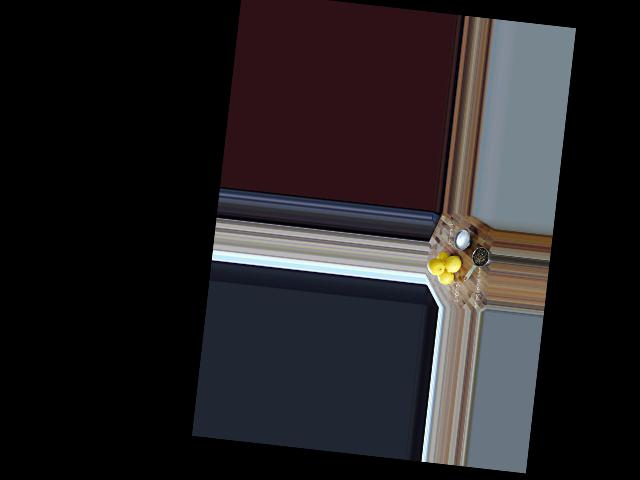lemon: (437, 249, 451, 264)
